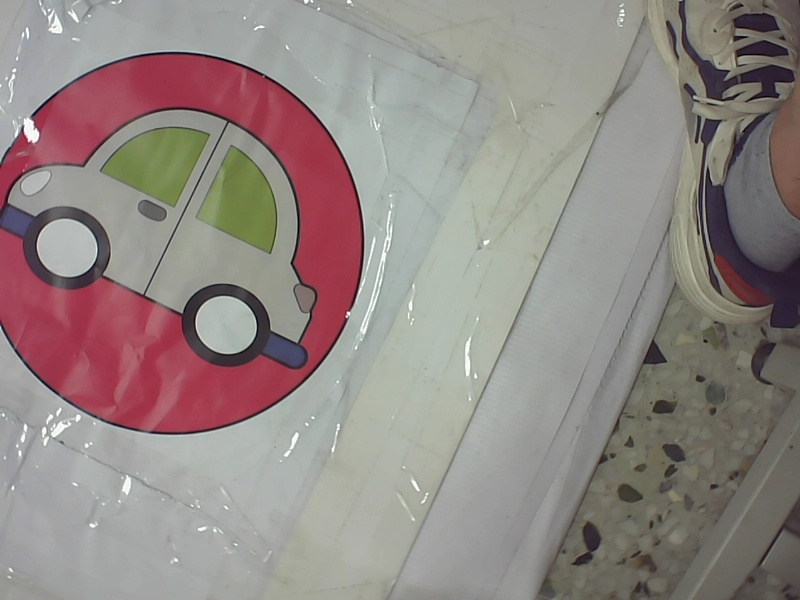areaC: (3, 42, 363, 455)
